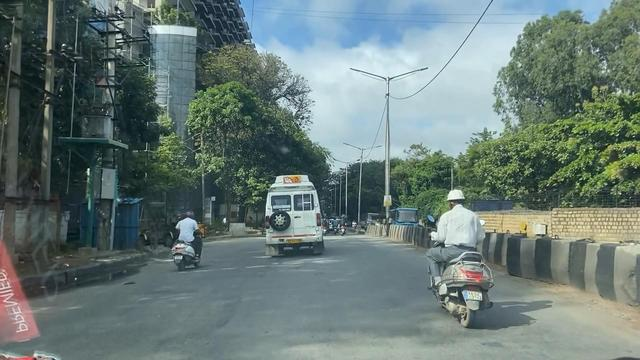HMV: (262, 169, 326, 255)
LMV: (422, 184, 490, 321), (172, 209, 212, 273)
RoadDamages: (159, 300, 232, 360)
